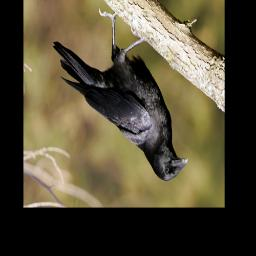Crow: (53, 5, 192, 183)
